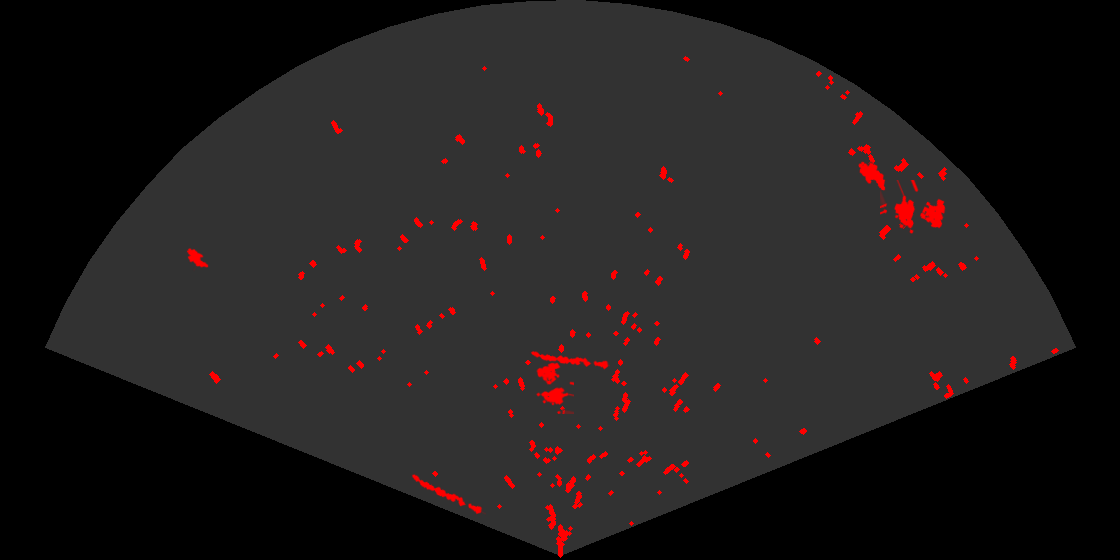AUV: (857, 160, 887, 192), (185, 246, 210, 272)
cage: (880, 180, 947, 235), (535, 361, 574, 414)
chain: (410, 473, 486, 516), (529, 350, 610, 371)
